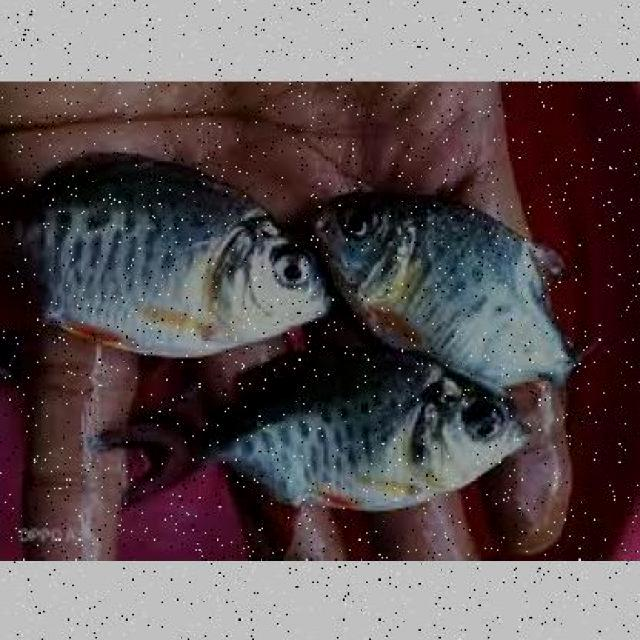ikan-pacu: (1, 138, 334, 360), (106, 351, 534, 517), (298, 176, 588, 384)
